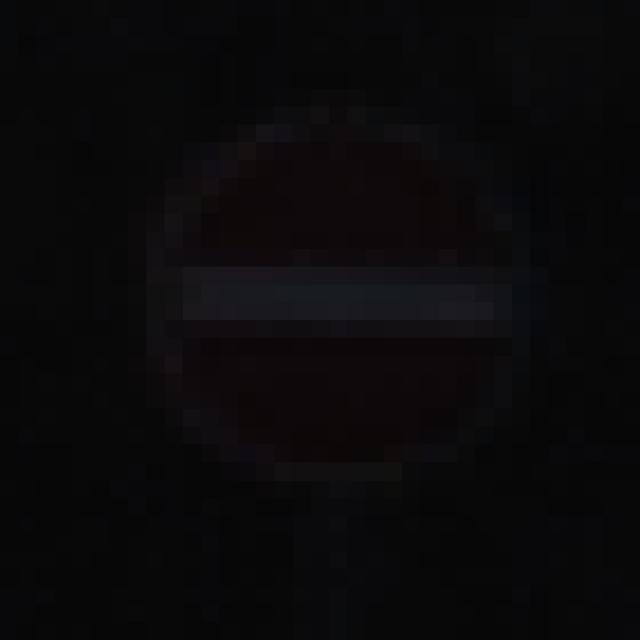No Entry: (93, 90, 550, 552)
